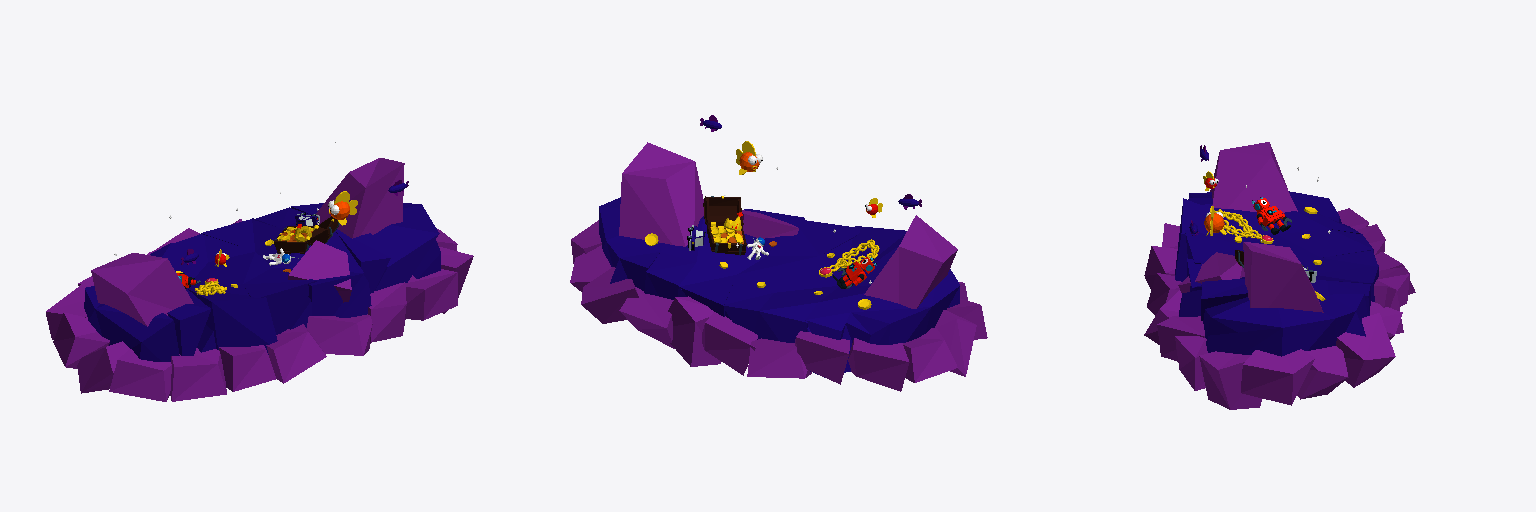
The picture shows the model from 3 angles: view 1: azimuth 30°, elevation 25°; view 2: azimuth 150°, elevation 25°; view 3: azimuth 270°, elevation 25°; orthographic projection.
Parts seen in each view (by area): view 1: group[number redacted], group[number redacted], group[number redacted], group[number redacted], group[number redacted], group[number redacted], group[number redacted], group[number redacted], group[number redacted], group[number redacted], group[number redacted], group[number redacted] (+5 smaller); view 2: group[number redacted], group[number redacted], group[number redacted], group[number redacted], group[number redacted], group[number redacted], group[number redacted], group[number redacted], group[number redacted], group[number redacted], group[number redacted], group[number redacted] (+8 smaller); view 3: group[number redacted], group[number redacted], group[number redacted], group[number redacted], group[number redacted], group[number redacted], group[number redacted], group[number redacted], group[number redacted], group[number redacted], group[number redacted], group[number redacted] (+6 smaller).
Part boxes in pixels (x1,y1,x2,y2): group[number redacted]: (84, 203, 440, 361); group[number redacted]: (91, 253, 193, 326); group[number redacted]: (316, 158, 404, 238); group[number redacted]: (170, 348, 226, 401); group[number redacted]: (109, 349, 171, 401); group[number redacted]: (307, 314, 372, 355); group[number redacted]: (405, 269, 457, 320); group[number redacted]: (266, 324, 326, 383); group[number redacted]: (219, 345, 275, 391); group[number redacted]: (288, 240, 351, 302); group[number redacted]: (53, 313, 109, 368); group[number redacted]: (368, 282, 406, 342); group[number redacted]: (599, 197, 959, 377); group[number redacted]: (619, 142, 703, 246); group[number redacted]: (864, 215, 957, 308); group[number redacted]: (848, 338, 909, 391); group[number redacted]: (668, 296, 720, 366); group[number redacted]: (702, 312, 757, 375); group[number redacted]: (703, 196, 746, 255); group[number redacted]: (747, 338, 811, 378); group[number redacted]: (795, 331, 849, 384); group[number redacted]: (581, 267, 638, 323); group[number redacted]: (903, 328, 957, 382); group[number redacted]: (619, 287, 674, 348); group[number redacted]: (1175, 191, 1378, 356); group[number redacted]: (1210, 142, 1297, 212); group[number redacted]: (1243, 242, 1323, 312); group[number redacted]: (1241, 349, 1314, 405); group[number redacted]: (1336, 313, 1395, 387); group[number redacted]: (1199, 351, 1261, 409); group[number redacted]: (1297, 346, 1348, 399); group[number redacted]: (1175, 336, 1207, 390); group[number redacted]: (1157, 315, 1204, 361); group[number redacted]: (1178, 252, 1244, 292); group[number redacted]: (1144, 246, 1177, 289); group[number redacted]: (1147, 273, 1181, 315).
Bounding box in the file's own units: 5.34 × 2.26 × 3.3.